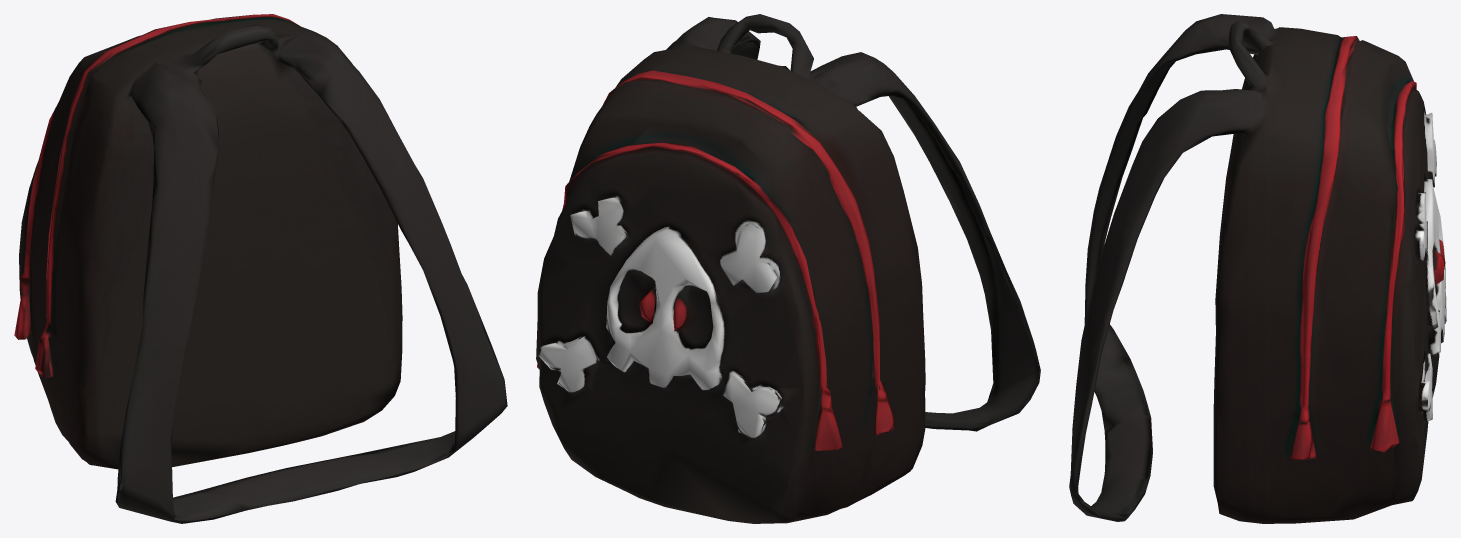
File: zaino2_accessory.fbx
The picture shows the model from 3 angles, left to right: view 1: azimuth 30°, elevation 25°; view 2: azimuth 150°, elevation 25°; view 3: azimuth 270°, elevation 25°; orthographic projection. The views are drawn at different scales.
Parts seen in each view (by area): view 1: Zaino2Handle; view 2: Zaino2Handle; view 3: Zaino2Handle.
Boxes of the visible parts, x1,y1,x2,y2 form: Zaino2Handle: (14, 14, 507, 523); Zaino2Handle: (536, 14, 1040, 523); Zaino2Handle: (1069, 14, 1446, 523).
Bounding box in the file's own units: 1.77 × 1.9 × 1.48.
Materials: 1 (1 with a texture image).
